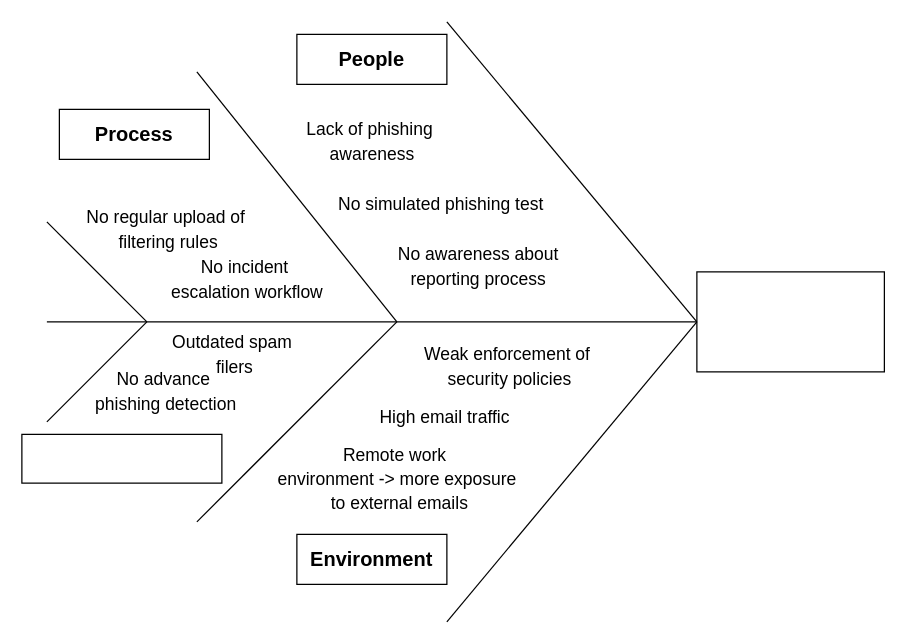
Some shapes in this 906 by 644 pixel diagram are drawn without their labels. The centre of each missing label's shape, as x and y in pixels:
"Phishing Incident: User clicked malicious link" goes at (x=790, y=321).
"Policy Management" goes at (x=121, y=458).
